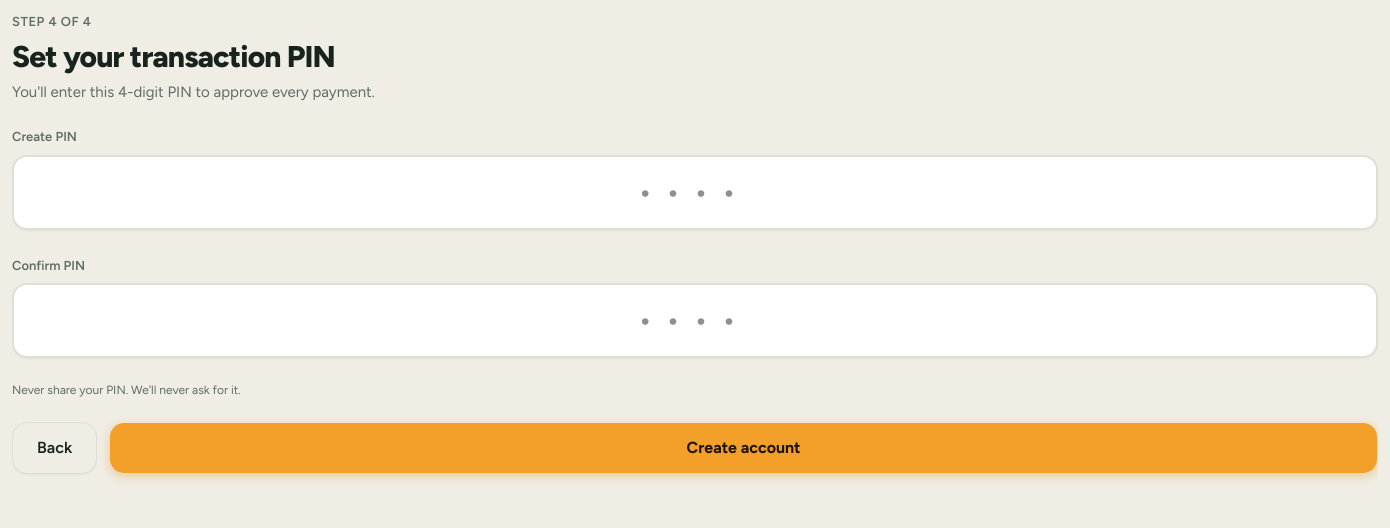
Test: PinStep › rejects a weak PIN client-side (all same digit)
Type "1111" into the password field labelled "Create PIN".
click(695, 192); type("1111")  # box [12, 155, 1378, 230]
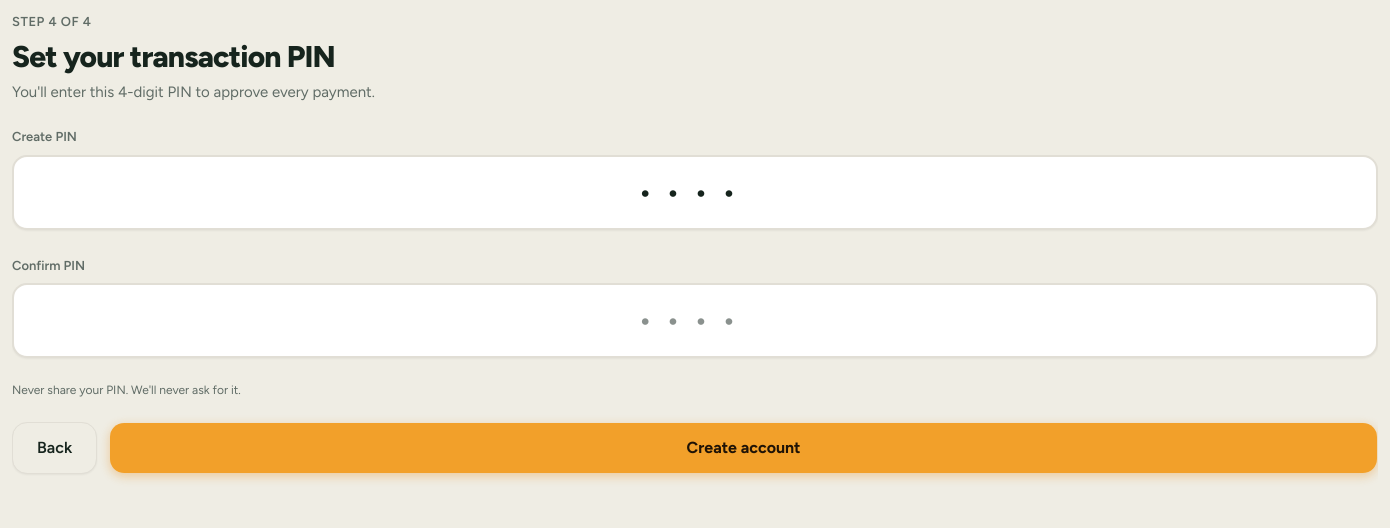
Type "1111" into the password field labelled "Confirm PIN".
click(695, 321); type("1111")  # box [12, 283, 1378, 358]
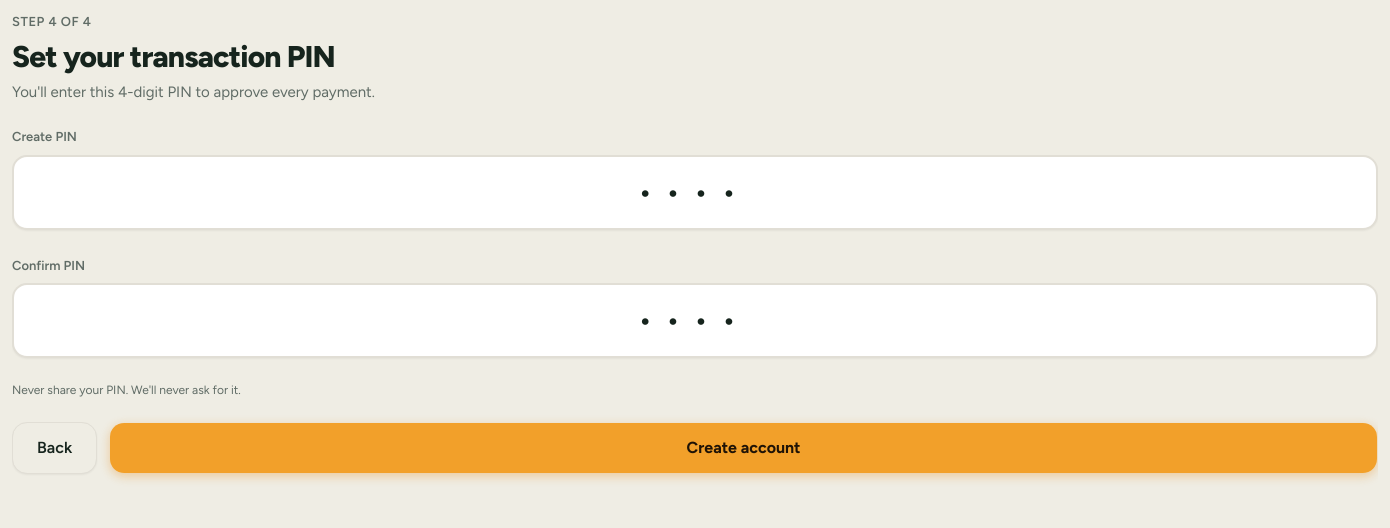
Click the button "Create account".
click(744, 448)  # box [109, 422, 1378, 474]
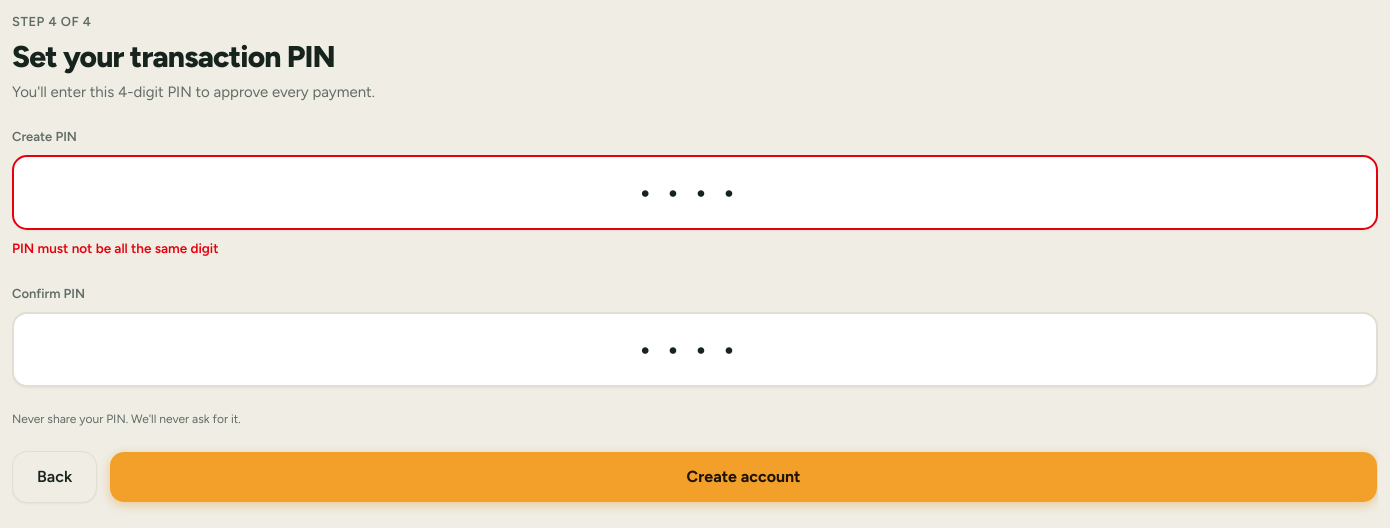
Check: the text "PIN must not be all the same digit" is shown, box [12, 240, 218, 256]
